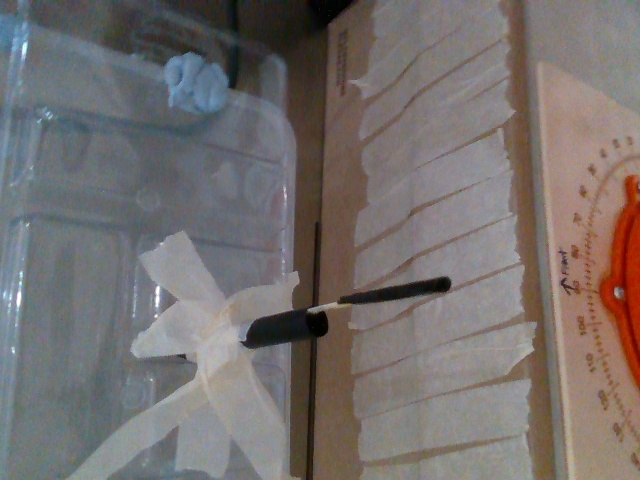test_strip: (310, 273, 448, 312)
